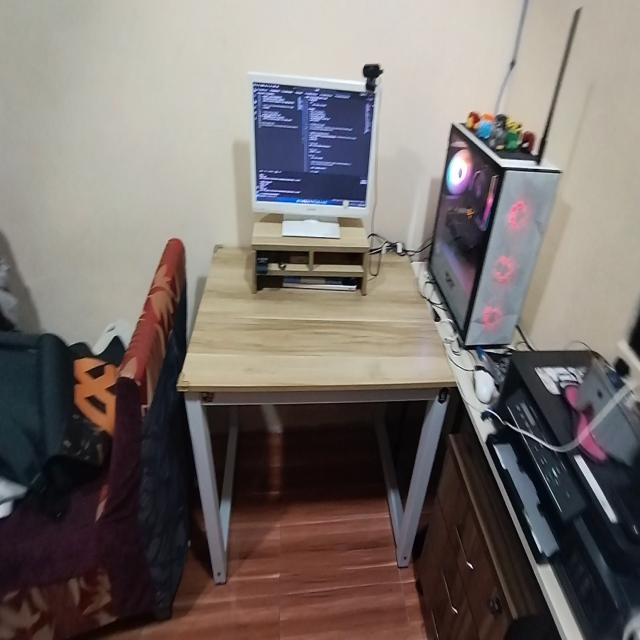table: (178, 235, 457, 568)
